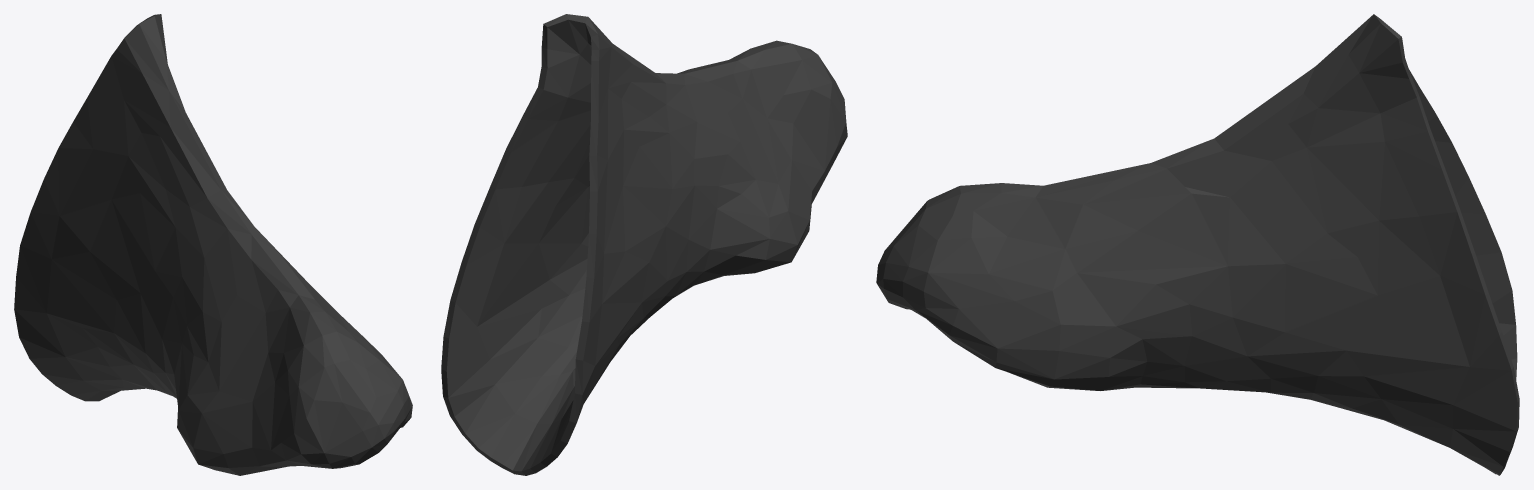
Rendered from c6_spinous_process.glb.
3 renders of one model, left to right at view 1: azimuth 30°, elevation 25°; view 2: azimuth 150°, elevation 25°; view 3: azimuth 270°, elevation 25°, orthographic. The views are drawn at different scales.
Parts seen in each view (by area): view 1: c6_spinous_process; view 2: c6_spinous_process; view 3: c6_spinous_process.
Part boxes in pixels (box(x1,y1,x2,y2)): c6_spinous_process: box(14, 14, 412, 475); c6_spinous_process: box(441, 14, 847, 475); c6_spinous_process: box(876, 14, 1519, 475).
Bounding box in the file's own units: 5.68 × 13.47 × 17.38.
1 material, 1 textured.
